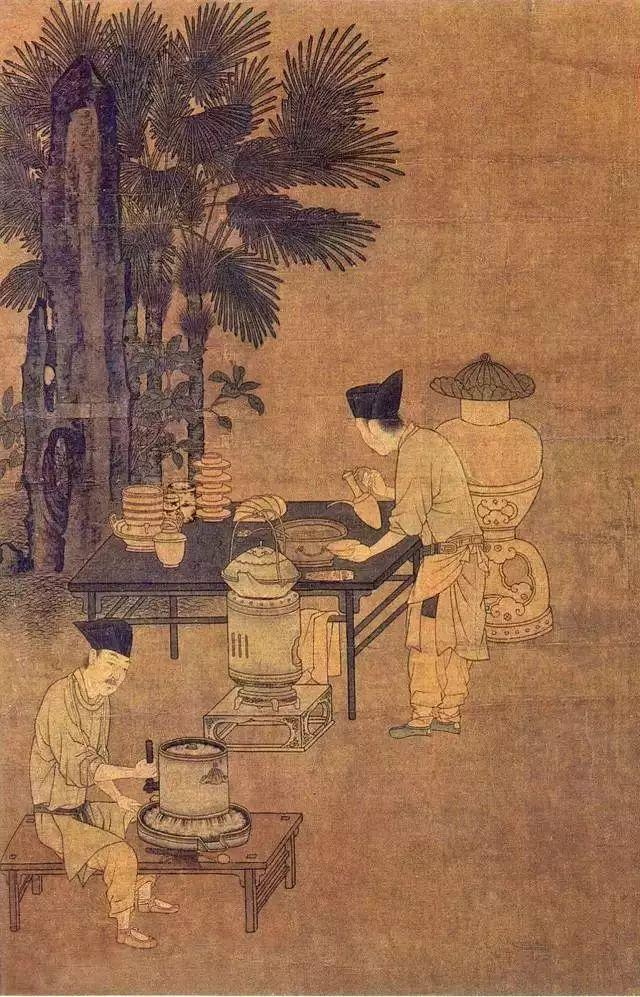decoration: (427, 336, 569, 673), (194, 505, 346, 762), (141, 731, 248, 856), (107, 470, 184, 568), (272, 512, 352, 570), (189, 453, 227, 525), (226, 487, 283, 531), (346, 476, 389, 533)
man: (338, 353, 514, 761), (26, 621, 167, 928)
table: (44, 476, 422, 706), (16, 793, 331, 947)
tree: (19, 18, 378, 558)
